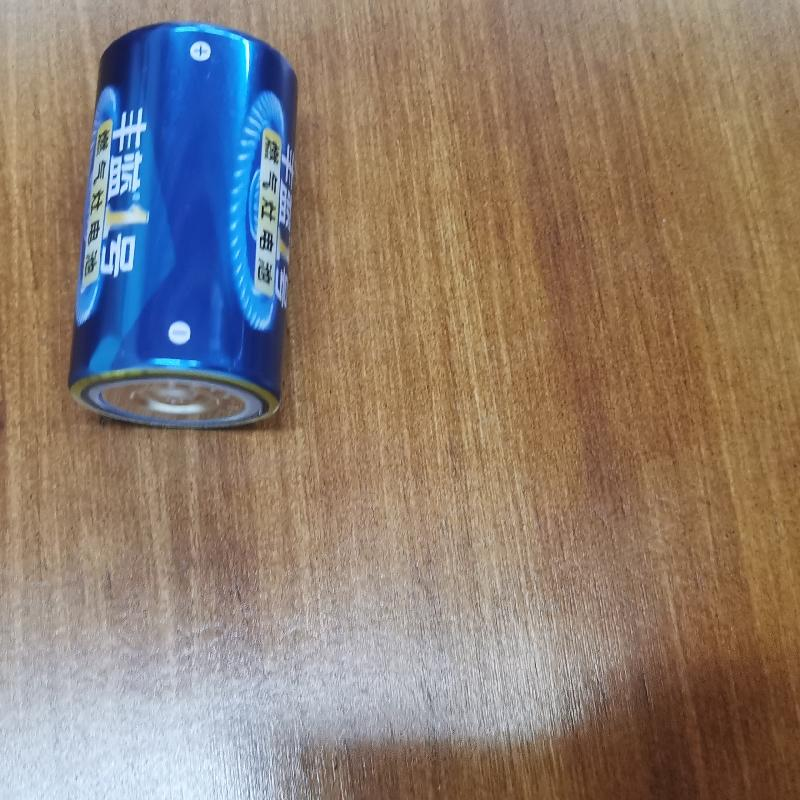battery: (62, 21, 299, 431)
